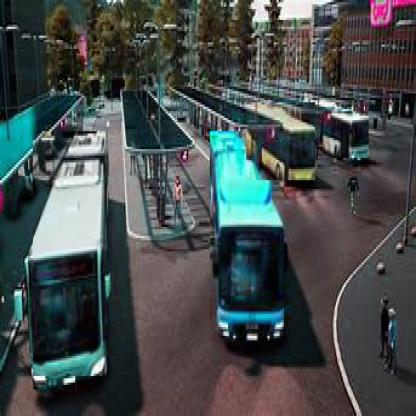bus: (34, 132, 111, 379), (211, 132, 286, 346), (247, 104, 318, 184), (324, 112, 371, 161)
